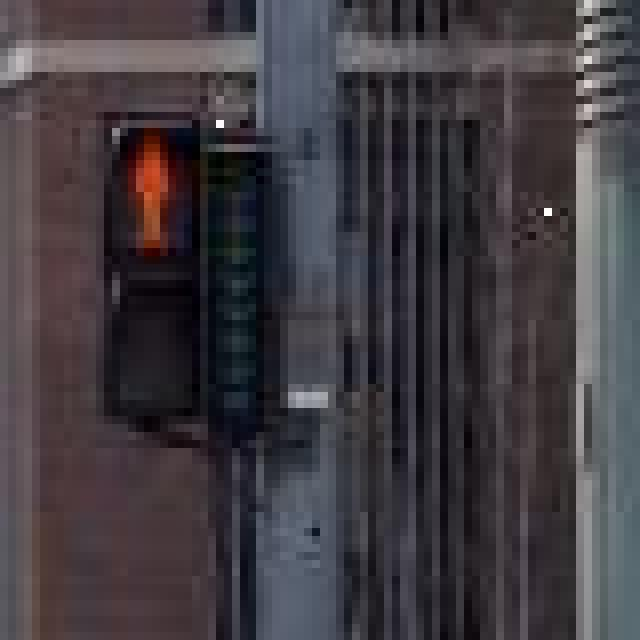redlight: (80, 104, 216, 432)
